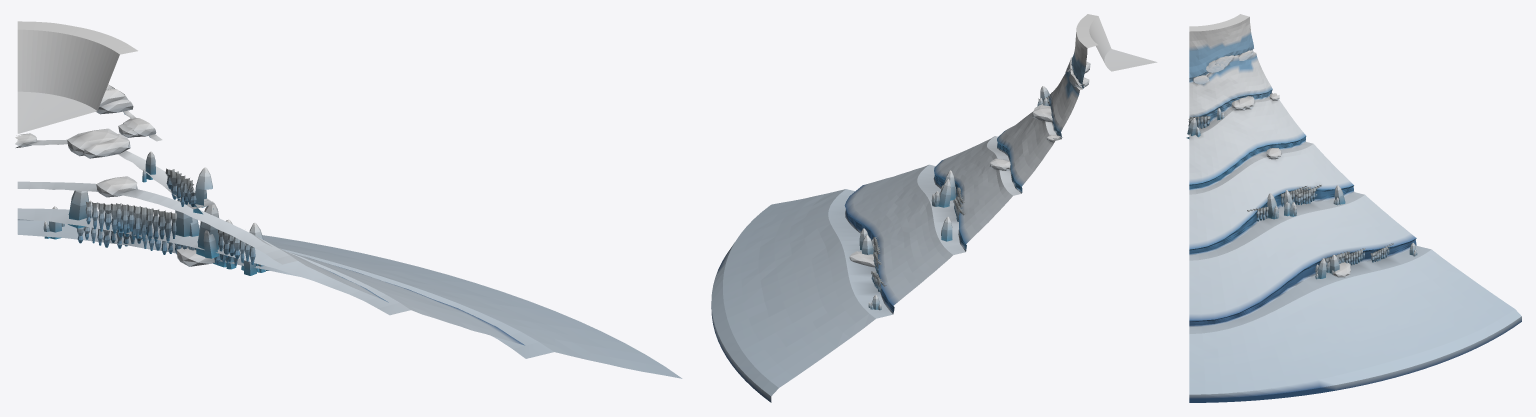
File: glacier-s1-DBVP6WSc.glb
3 renders of one model, left to right at view 1: azimuth 30°, elevation 25°; view 2: azimuth 150°, elevation 25°; view 3: azimuth 270°, elevation 25°, orthographic. The views are drawn at different scales.
Parts seen in each view (by area): view 1: sc_landmark_0; view 2: sc_landmark_0; view 3: sc_landmark_0.
Boxes of the visible parts, bbox=[...] form: sc_landmark_0: bbox=[15, 21, 682, 378]; sc_landmark_0: bbox=[711, 14, 1157, 402]; sc_landmark_0: bbox=[1186, 14, 1521, 402].
Bounding box in the file's own units: 416 × 286 × 364.
